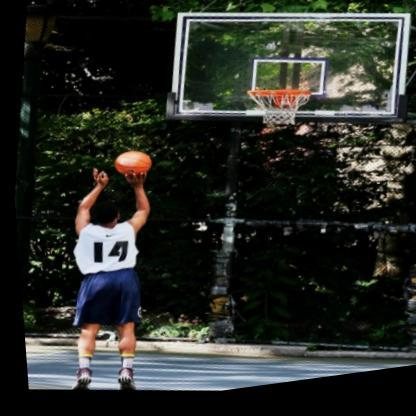basketball: (108, 150, 151, 184)
rim: (241, 89, 312, 139)
